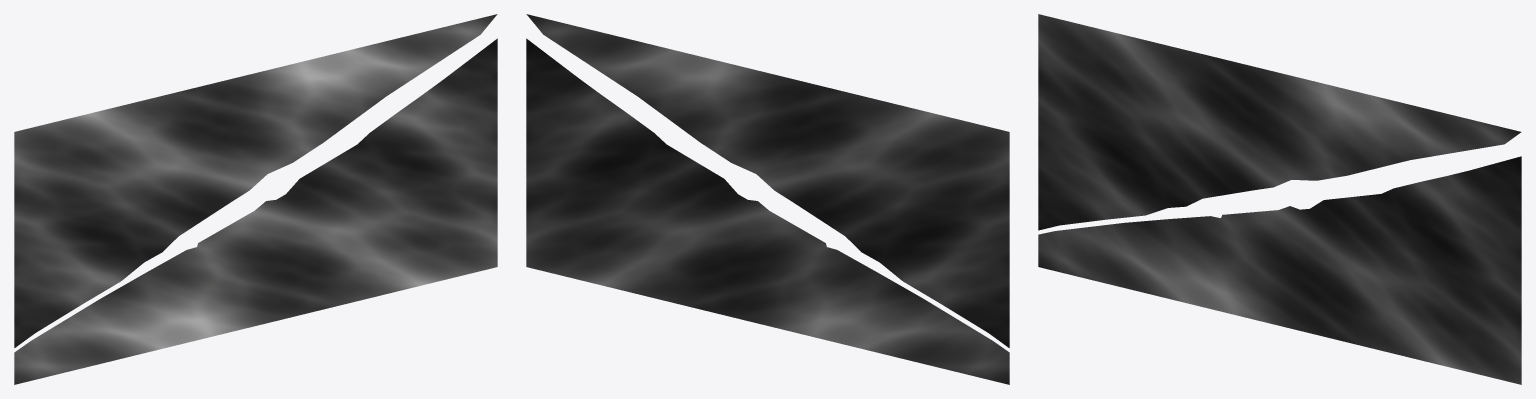
File: m_boli001.FBX
3 renders of one model, left to right at view 1: azimuth 30°, elevation 25°; view 2: azimuth 150°, elevation 25°; view 3: azimuth 330°, elevation 25°, orthographic.
Visible parts, largest first — view 1: m_boli001; view 2: m_boli001; view 3: m_boli001.
Boxes of the visible parts, x1,y1,x2,y2 form: m_boli001: (14,14,497,384); m_boli001: (526,14,1009,384); m_boli001: (1038,14,1521,384).
Size of the model in its own units: 40 by 20 by 3.26e-06.
